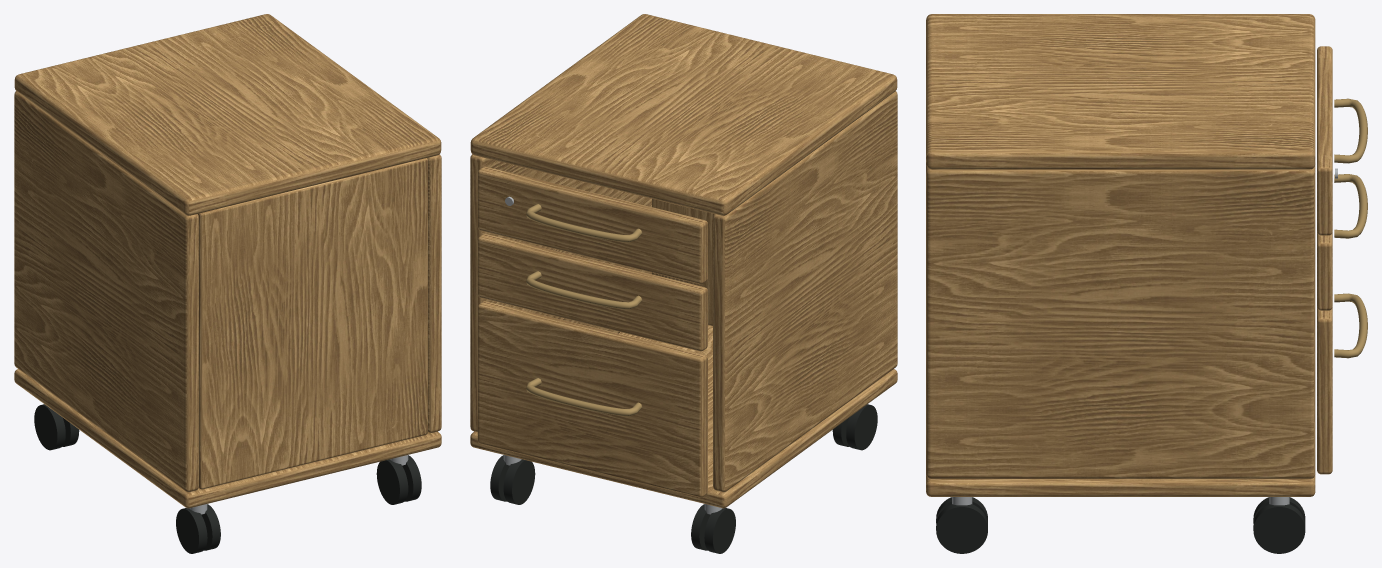
File: residential-file-pedestal.glb
The picture shows the model from 3 angles, left to right: view 1: azimuth 30°, elevation 25°; view 2: azimuth 150°, elevation 25°; view 3: azimuth 270°, elevation 25°; orthographic projection. The views are drawn at different scales.
Parts seen in each view (by area): view 1: oak_surfaces, rubber_surfaces; view 2: oak_surfaces, rubber_surfaces, bronze_surfaces; view 3: oak_surfaces, rubber_surfaces, bronze_surfaces.
Part boxes in pixels (box(x1,y1,x2,y2)): oak_surfaces: box(14, 14, 441, 508); rubber_surfaces: box(34, 404, 421, 553); oak_surfaces: box(470, 14, 897, 508); rubber_surfaces: box(490, 404, 877, 553); bronze_surfaces: box(526, 204, 641, 416); oak_surfaces: box(926, 14, 1332, 496); rubber_surfaces: box(936, 497, 1305, 553); bronze_surfaces: box(1334, 98, 1367, 358).
Bounding box in the file's own units: 0.46 × 0.629 × 0.6127.
4 materials, 1 textured.
